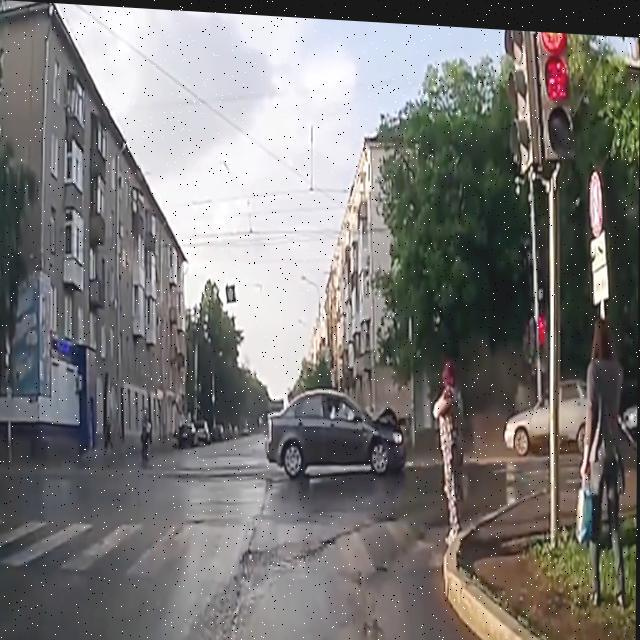multiple_accident: (269, 391, 633, 460)
